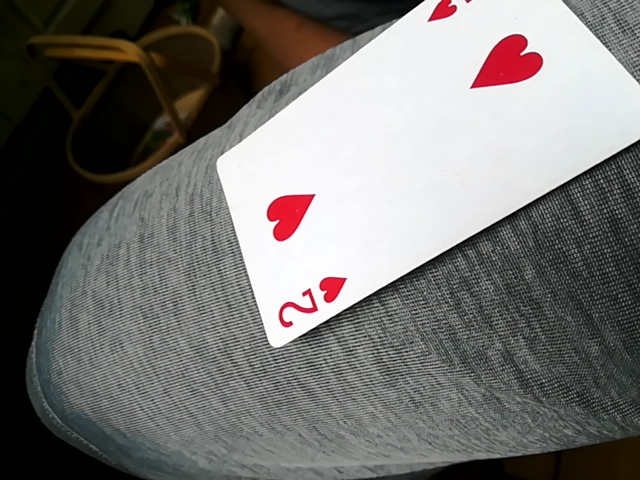hx 2: (213, 2, 638, 345)
